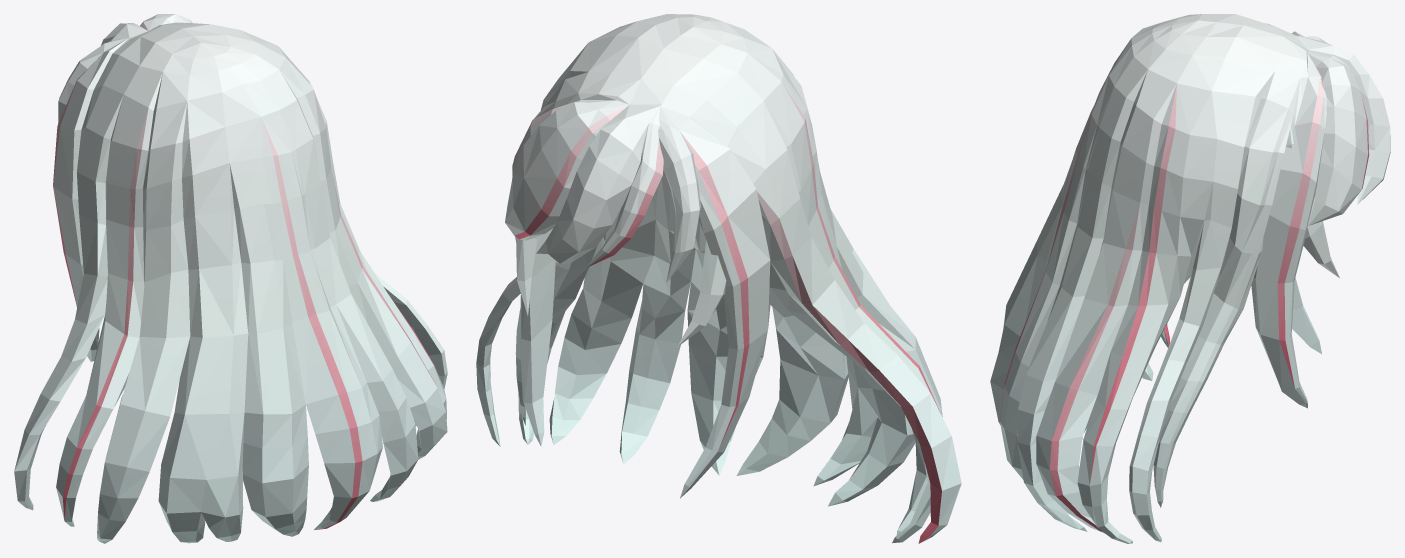
The model's file is CharSkyKid_Hair_KizunaAi_Pink.glb.
3 renders of one model, left to right at view 1: azimuth 30°, elevation 25°; view 2: azimuth 150°, elevation 25°; view 3: azimuth 270°, elevation 25°, orthographic. The views are drawn at different scales.
Parts seen in each view (by area): view 1: CharSkyKid_Hair_KizunaAi_Pink; view 2: CharSkyKid_Hair_KizunaAi_Pink; view 3: CharSkyKid_Hair_KizunaAi_Pink.
Boxes of the visible parts, left/top/right/bottom form: CharSkyKid_Hair_KizunaAi_Pink: left=14, top=14, right=447, bottom=543; CharSkyKid_Hair_KizunaAi_Pink: left=476, top=14, right=961, bottom=543; CharSkyKid_Hair_KizunaAi_Pink: left=990, top=14, right=1390, bottom=543.
Bounding box in the file's own units: 5.13 × 5.19 × 4.12.
Materials: 1 (1 with a texture image).
